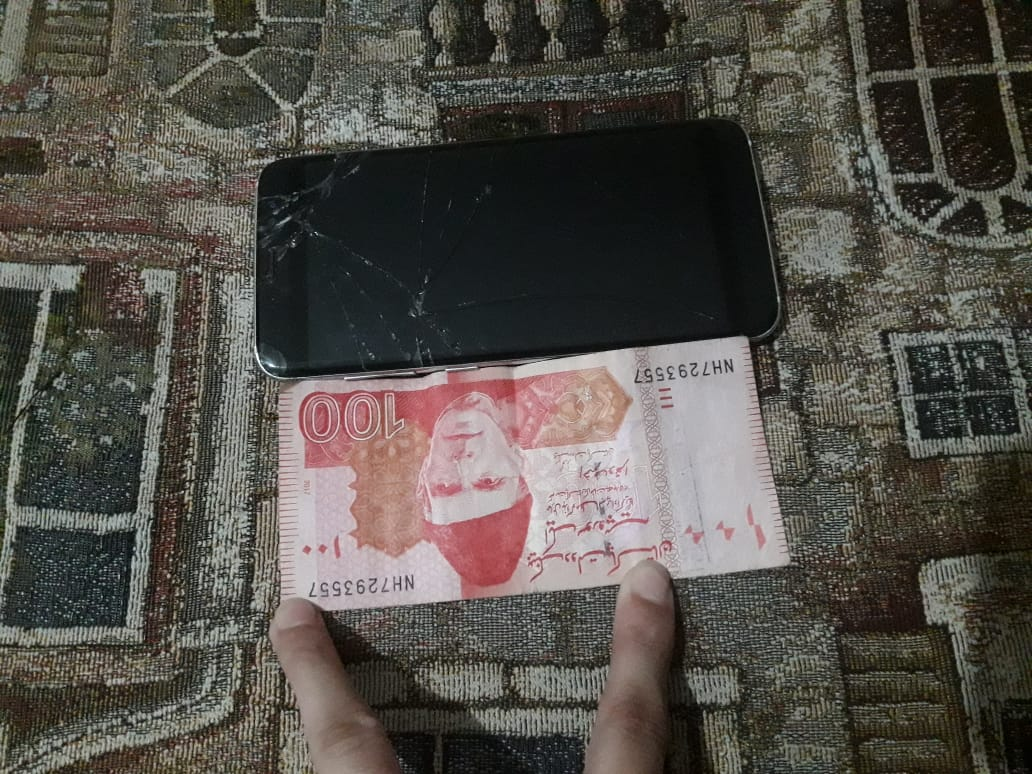100 rupee: (253, 333, 796, 613)
